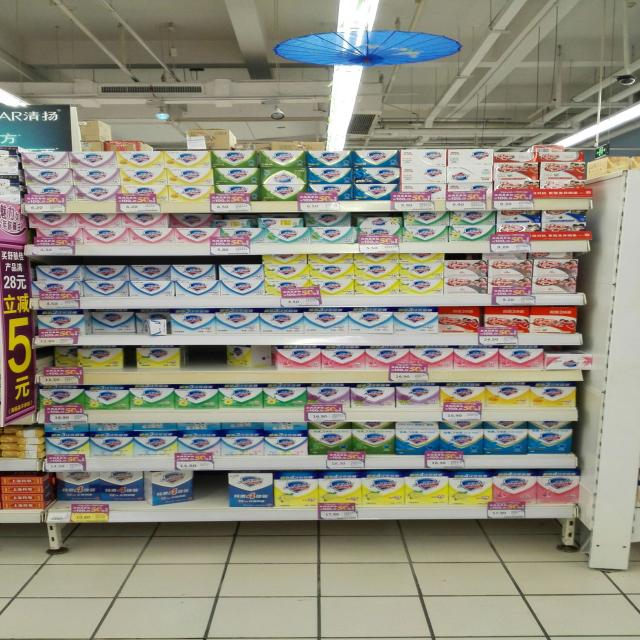empty: (192, 469, 232, 504), (177, 342, 230, 368)
